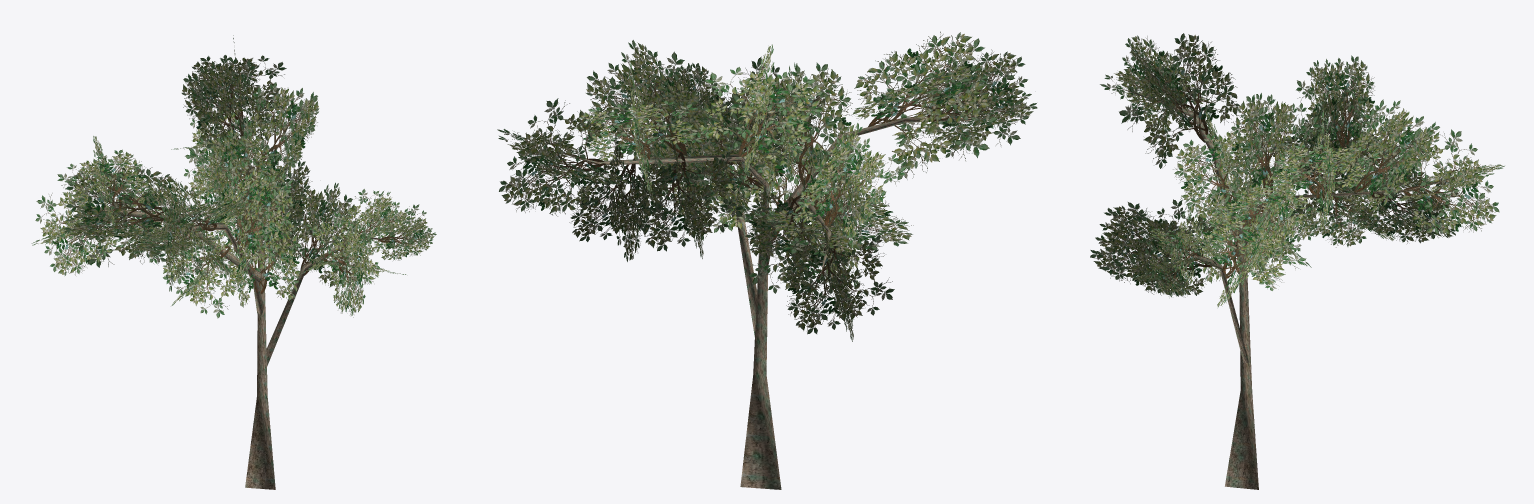
Rendered from decd_dogwoodtreeleaves_a2_l3.fbx.
3 views of the same model, side by side, from view 1: azimuth 30°, elevation 25°; view 2: azimuth 150°, elevation 25°; view 3: azimuth 270°, elevation 25° (orthographic). The views are drawn at different scales.
Parts seen in each view (by area): view 1: mesh_node; view 2: mesh_node; view 3: mesh_node.
Boxes of the visible parts, x1,y1,x2,y2 form: mesh_node: (31, 35, 436, 489); mesh_node: (497, 31, 1037, 489); mesh_node: (1090, 33, 1504, 489).
Size of the model in its own units: 16.48 by 18.6 by 17.75.
